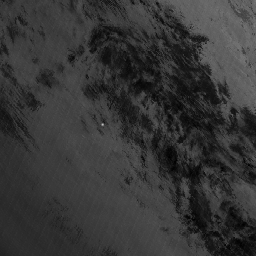Target: (100, 122, 105, 127)
